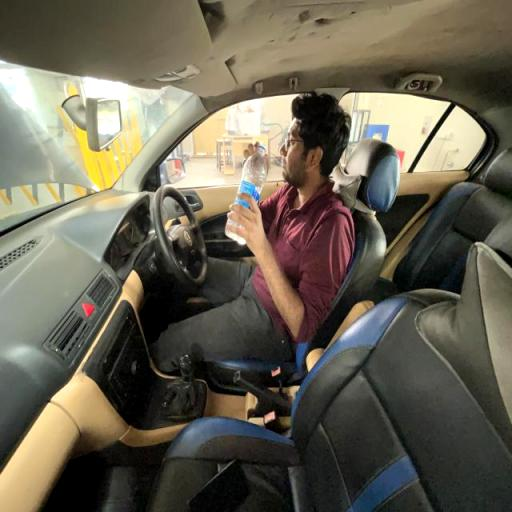Drinking: (221, 91, 354, 328)
